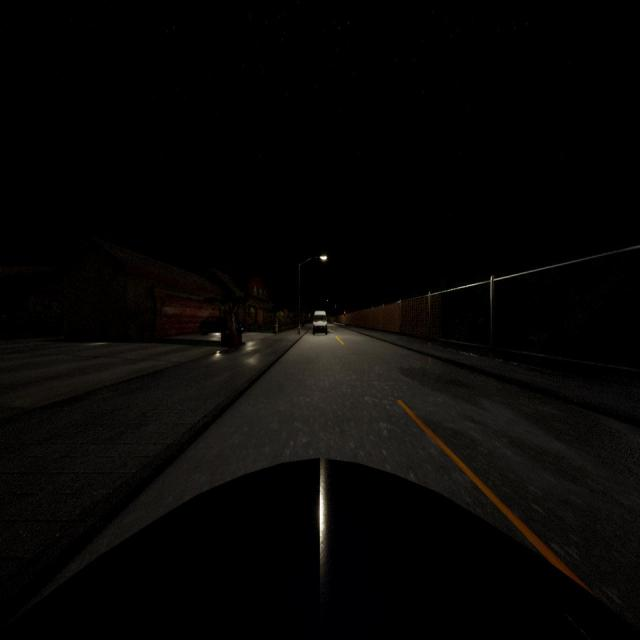Vehicle: (1, 458, 640, 640), (312, 311, 328, 334)
traffic_light: (344, 310, 346, 317)
